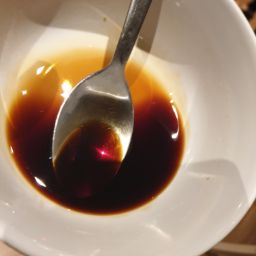Soy Sauce: (8, 52, 195, 212), (32, 80, 160, 205)
